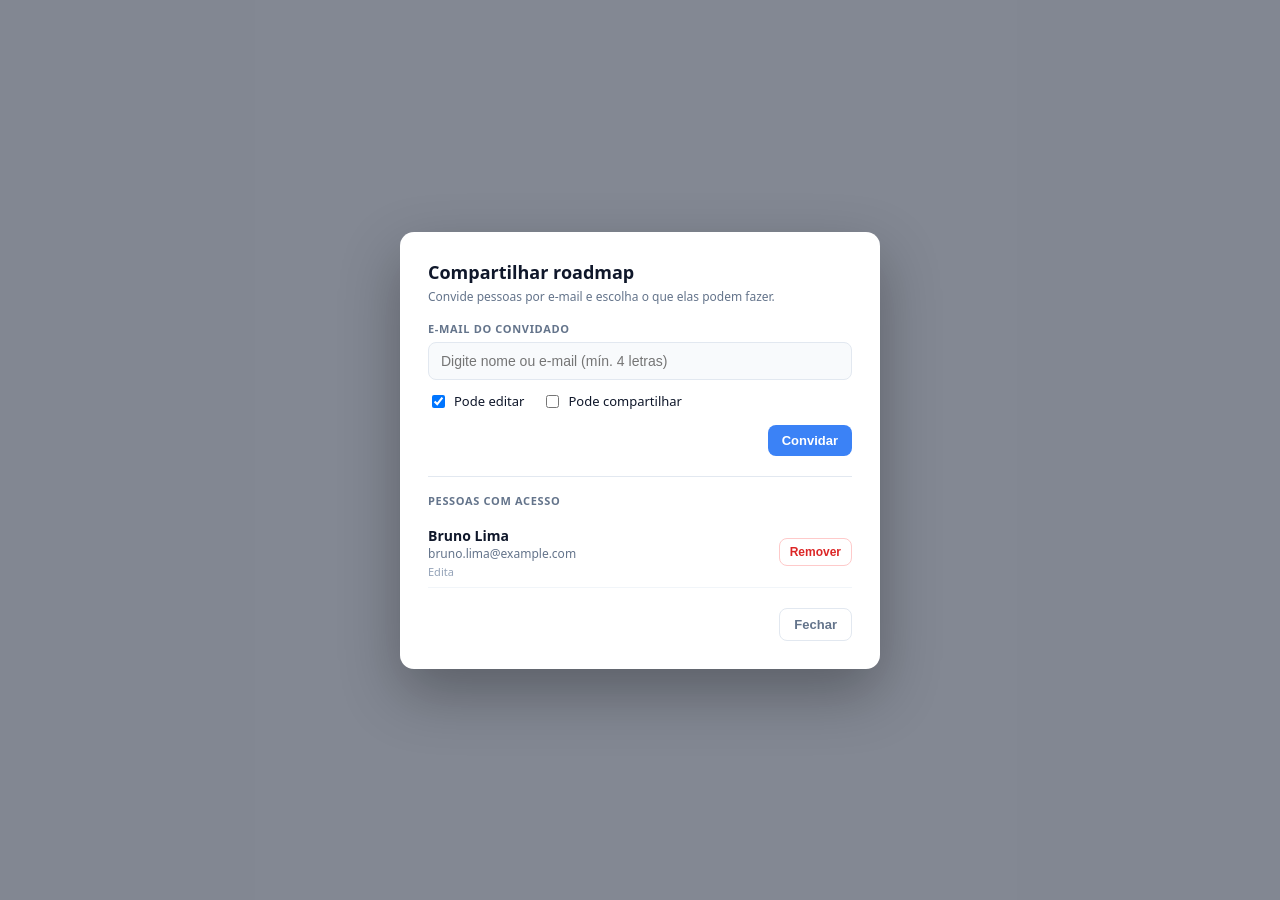
Test: ShareDialog › sugere usuários a partir de 4 caracteres e preenche ao escolher
The width and height of the screenshot is (1280, 900).
Type "mari" into the field named "e-mail do convidado" at [640, 360], box [428,342,852,380]
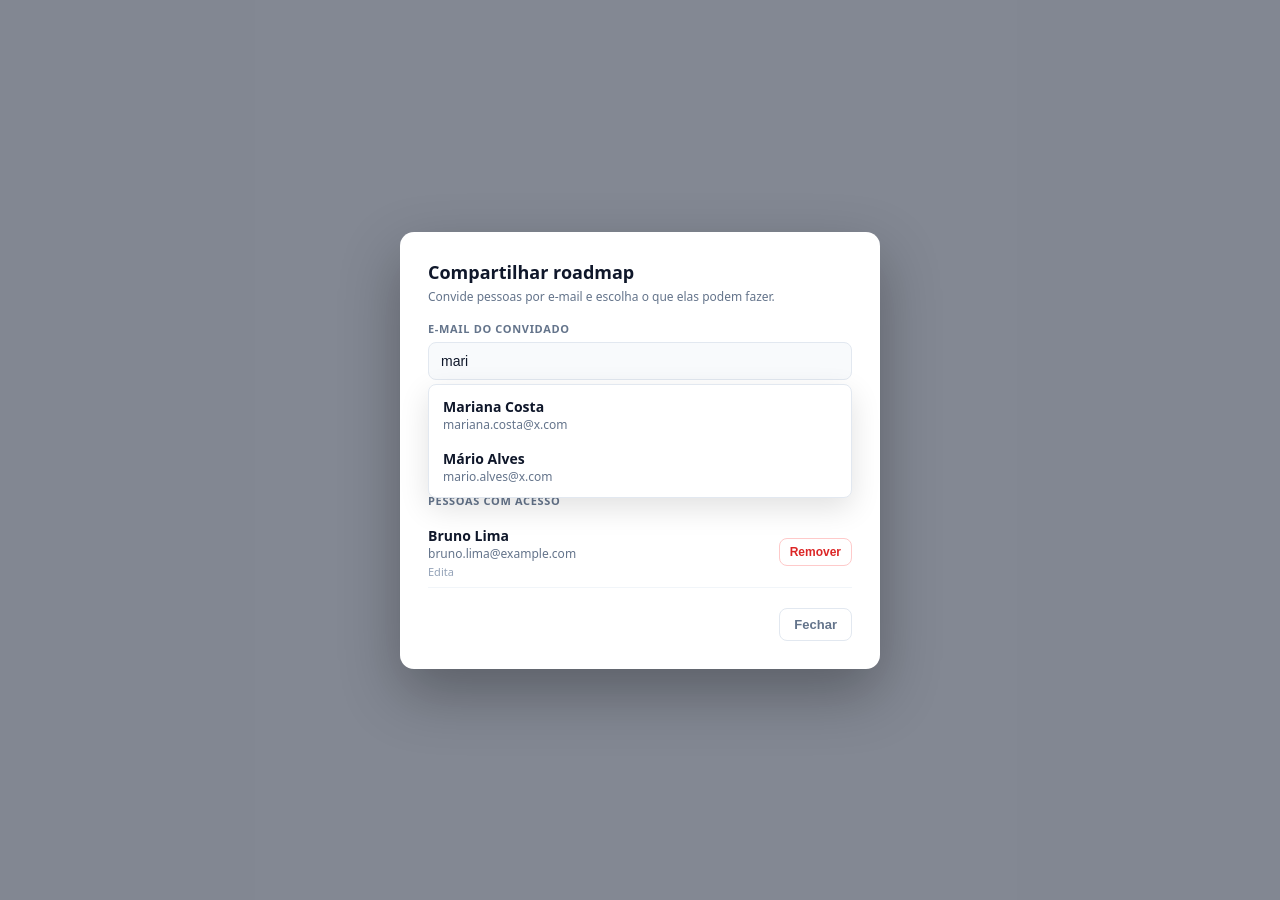
Expected: the text "mariana.costa@x.com" is shown, [443,416,568,432]
# Ao escolher, o e-mail é preenchido no campo.
Click the text "Mariana Costa" at [494, 406], box [443,396,544,416]
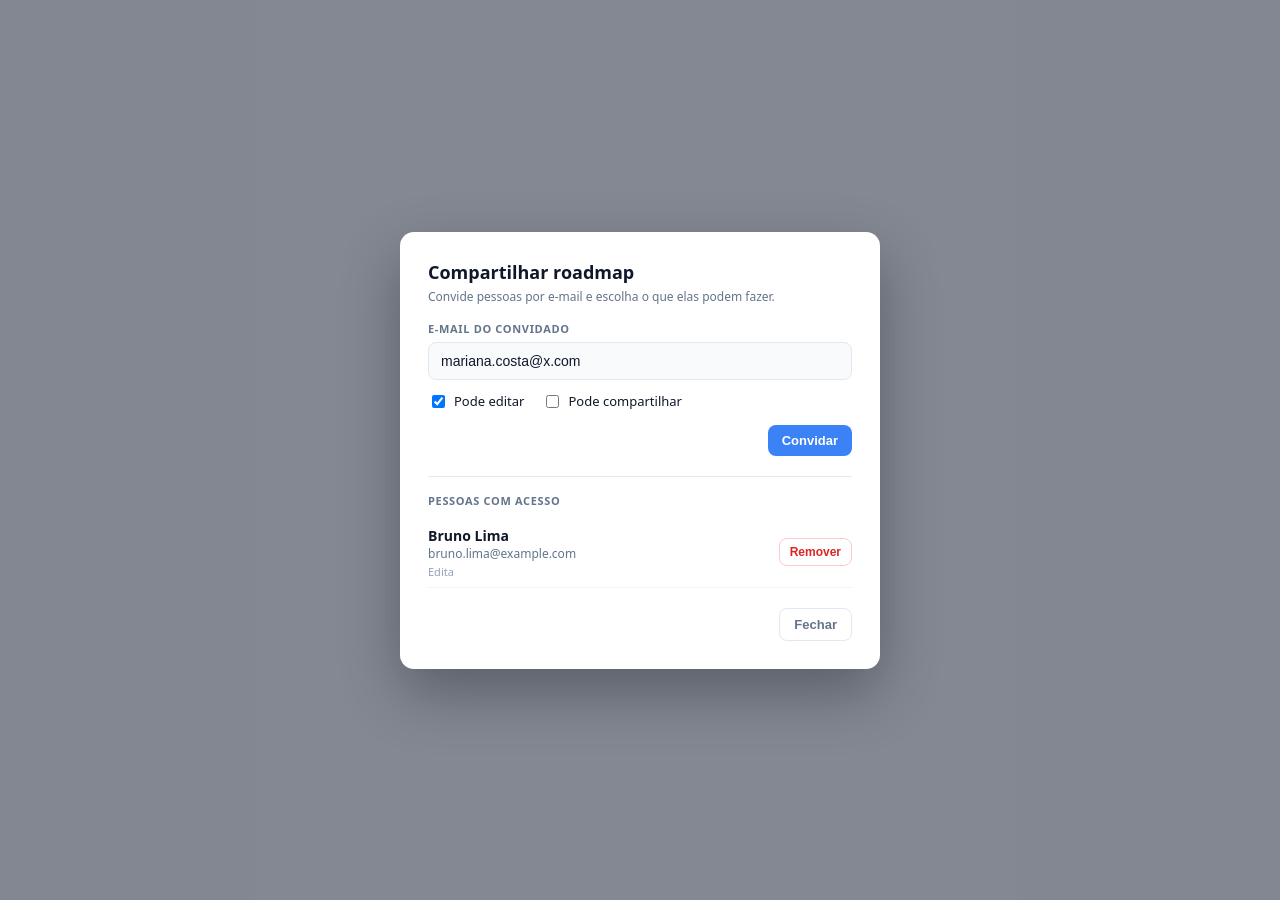
Expected: the field named "e-mail do convidado" holds "mariana.costa@x.com", [428,342,852,380]
